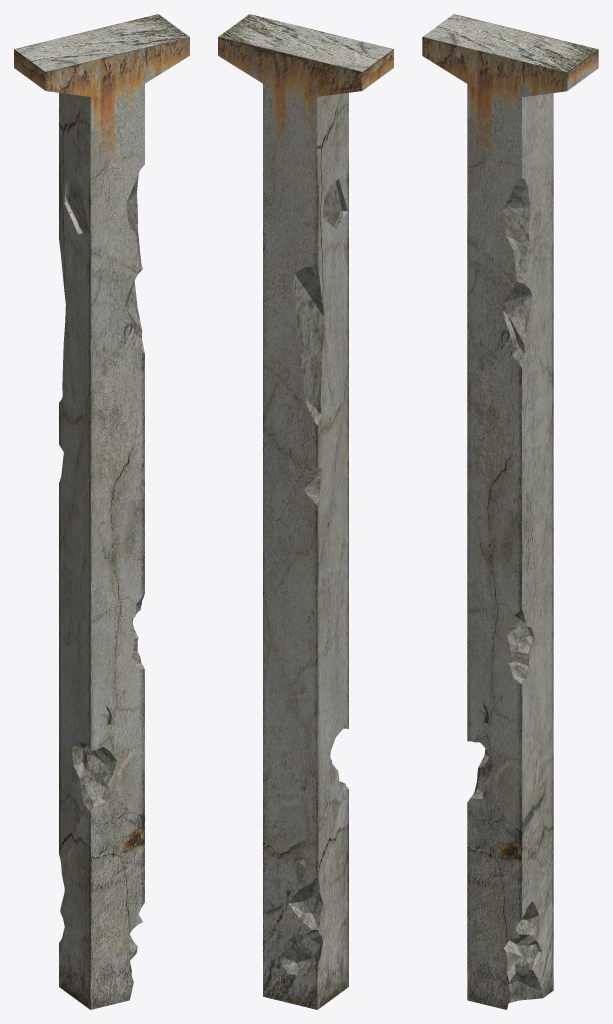
The model's file is Factory1Column05.FBX.
3 renders of one model, left to right at view 1: azimuth 30°, elevation 25°; view 2: azimuth 150°, elevation 25°; view 3: azimuth 330°, elevation 25°, orthographic.
Visible parts, largest first — view 1: Factory1Column05; view 2: Factory1Column05; view 3: Factory1Column05.
Boxes of the visible parts, <box> form: Factory1Column05: <box>14,14,189,1009</box>; Factory1Column05: <box>218,14,393,1009</box>; Factory1Column05: <box>422,14,598,1009</box>.
Bounding box in the file's own units: 124 × 782 × 46.88.
